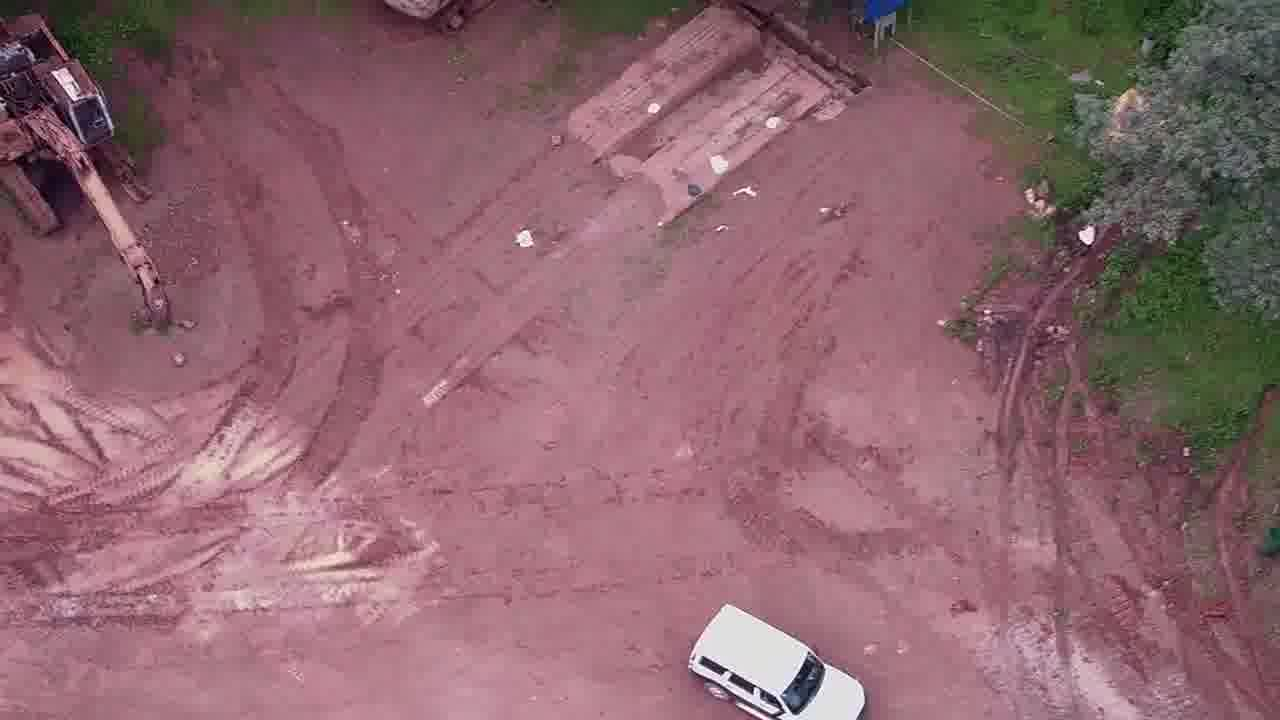HMV: (1, 4, 149, 343)
LMV: (697, 594, 867, 719)
